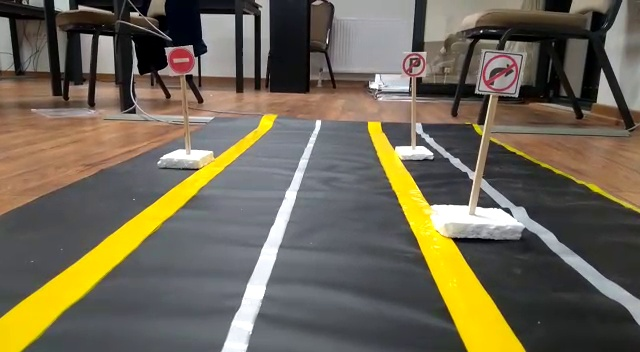girisi_olmayan_yol: (165, 42, 194, 78)
park_yapilmaz: (402, 49, 426, 78)
saga_donulmez: (476, 46, 524, 100)
